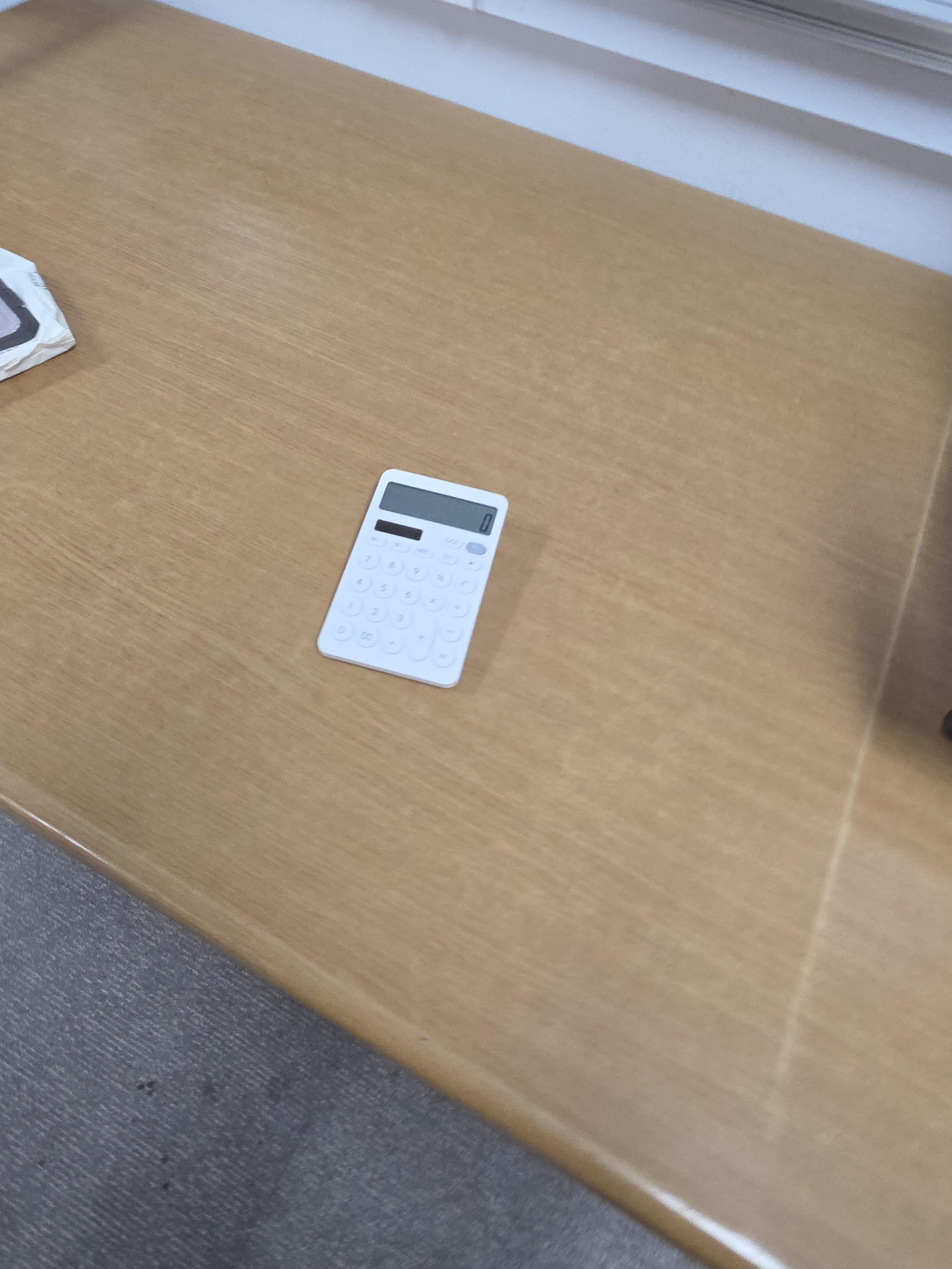calculator: (316, 469, 509, 689)
tissue: (0, 247, 76, 382)
